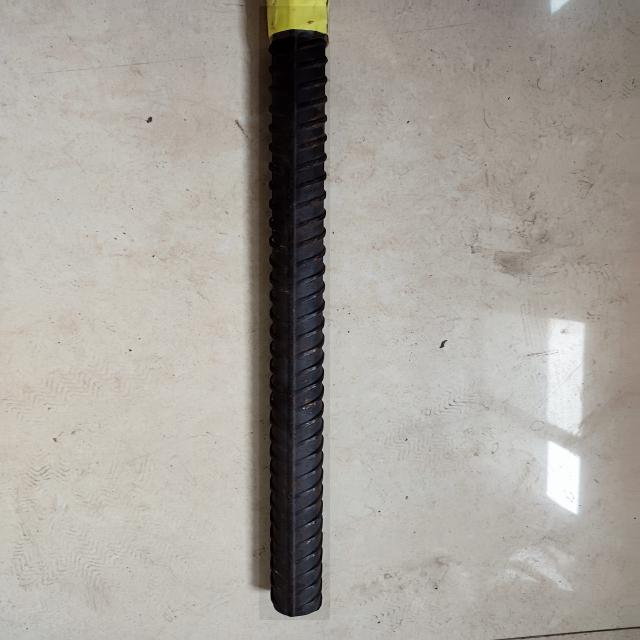ribbed bar: (259, 6, 330, 620)
